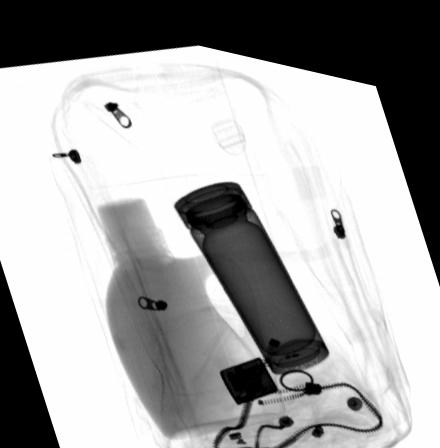Lighter: (218, 343, 279, 393)
